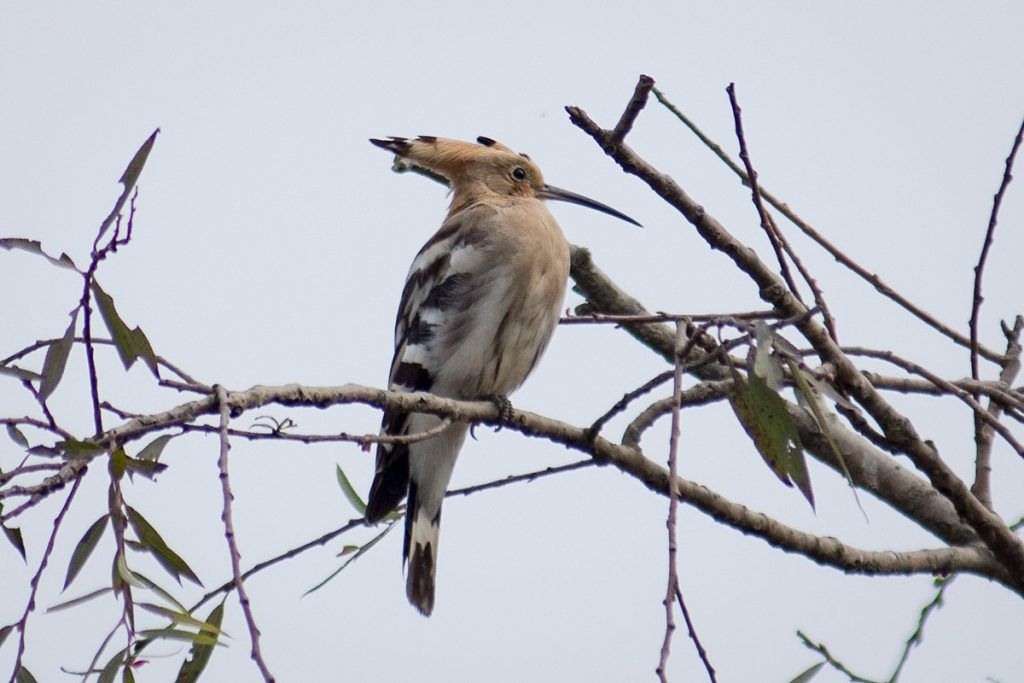bird: (351, 117, 644, 620)
